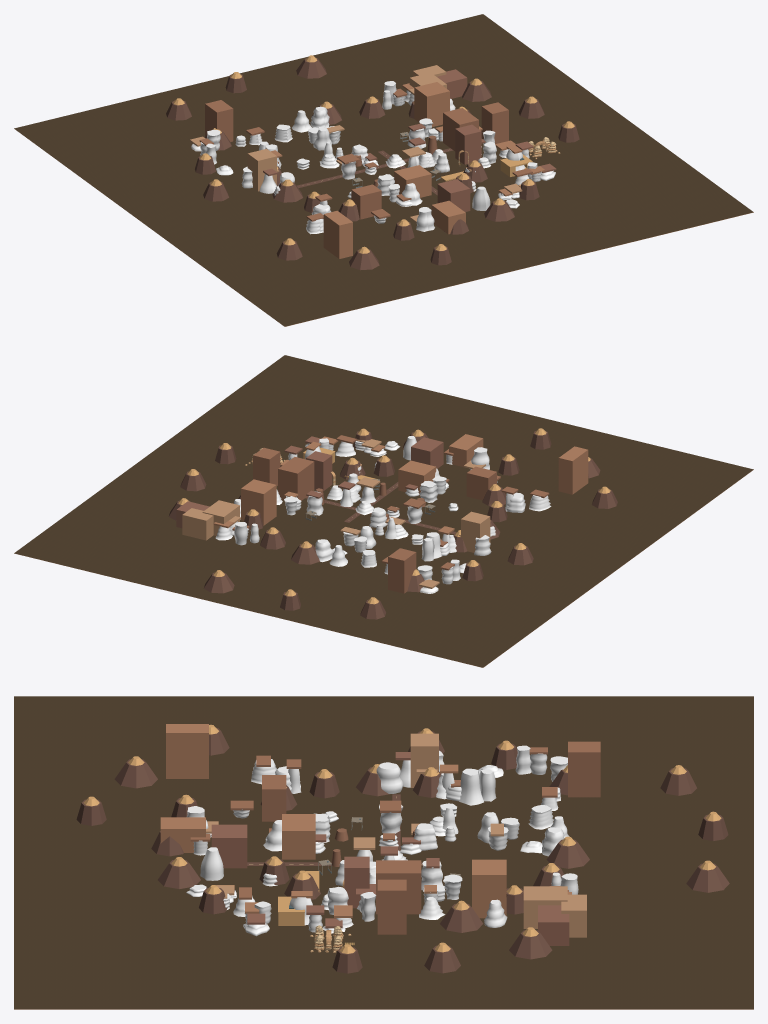
3 renders of one model, top to bottom at view 1: azimuth 30°, elevation 25°; view 2: azimuth 150°, elevation 25°; view 3: azimuth 270°, elevation 25°, orthographic. The views are drawn at different scales.
Parts seen in each view (by area): view 1: Runtime FPV textured terrain canyon, Runtime canyon_1_0_0, Runtime Material_4, Runtime Material_2, Runtime Material_6, Runtime Material_8, Runtime canyon_2_0_0, Runtime canyon_0_0_0; view 2: Runtime FPV textured terrain canyon, Runtime canyon_1_0_0, Runtime Material_2, Runtime Material_4, Runtime Material_8, Runtime Material_6, Runtime canyon_2_0_0, Runtime canyon_0_0_0; view 3: Runtime FPV textured terrain canyon, Runtime canyon_1_0_0, Runtime Material_4, Runtime Material_2, Runtime Material_6, Runtime Material_8, Runtime canyon_2_0_0, Runtime canyon_0_0_0, Runtime Material_32, Runtime Material_20, Runtime Material_36.
Part boxes in pixels (box(x1,y1,x2,y2)): Runtime FPV textured terrain canyon: box(14, 14, 753, 326); Runtime canyon_1_0_0: box(166, 58, 579, 270); Runtime Material_4: box(271, 82, 545, 258); Runtime Material_2: box(199, 88, 532, 221); Runtime Material_6: box(263, 69, 556, 211); Runtime Material_8: box(190, 65, 522, 222); Runtime canyon_2_0_0: box(173, 55, 574, 253); Runtime canyon_0_0_0: box(15, 129, 753, 326); Runtime FPV textured terrain canyon: box(14, 355, 753, 667); Runtime canyon_1_0_0: box(168, 430, 617, 619); Runtime Material_2: box(232, 435, 549, 593); Runtime Material_4: box(213, 434, 588, 534); Runtime Material_8: box(182, 439, 490, 588); Runtime Material_6: box(176, 436, 490, 528); Runtime canyon_2_0_0: box(178, 428, 610, 604); Runtime canyon_0_0_0: box(14, 470, 752, 667); Runtime FPV textured terrain canyon: box(14, 696, 753, 1009); Runtime canyon_1_0_0: box(76, 727, 729, 973); Runtime Material_4: box(160, 724, 571, 918); Runtime Material_2: box(190, 741, 600, 934); Runtime Material_6: box(211, 752, 569, 945); Runtime Material_8: box(206, 733, 586, 937); Runtime canyon_2_0_0: box(83, 724, 721, 953); Runtime canyon_0_0_0: box(14, 1009, 753, 1009); Runtime Material_32: box(459, 768, 483, 805); Runtime Material_20: box(376, 762, 403, 793); Runtime Material_36: box(200, 847, 223, 880).
Bounding box in the file's own units: 880 × 62.45 × 880.
Materials: 104 (8 with a texture image).
